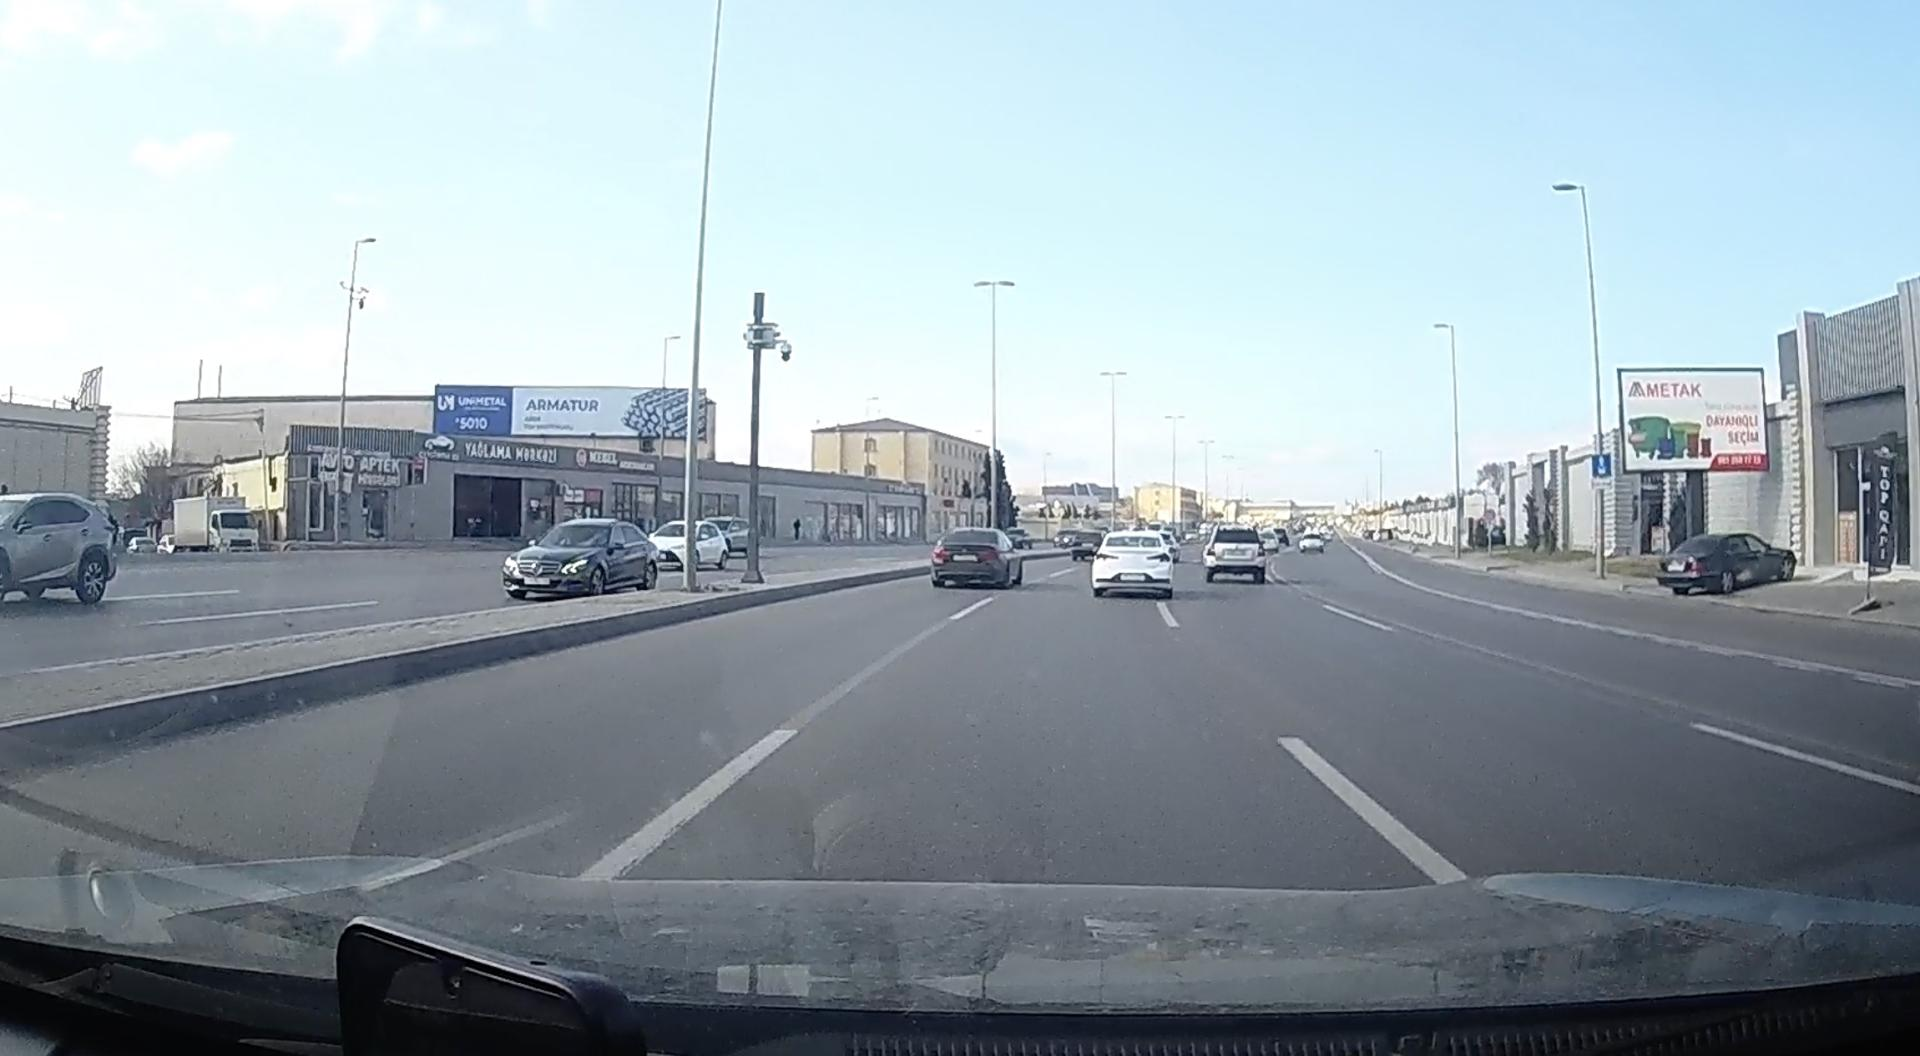banner: (1616, 365, 1773, 477), (434, 384, 710, 445)
